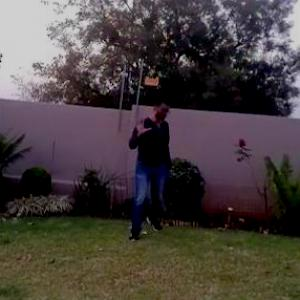follow_hand: (130, 112, 153, 138)
